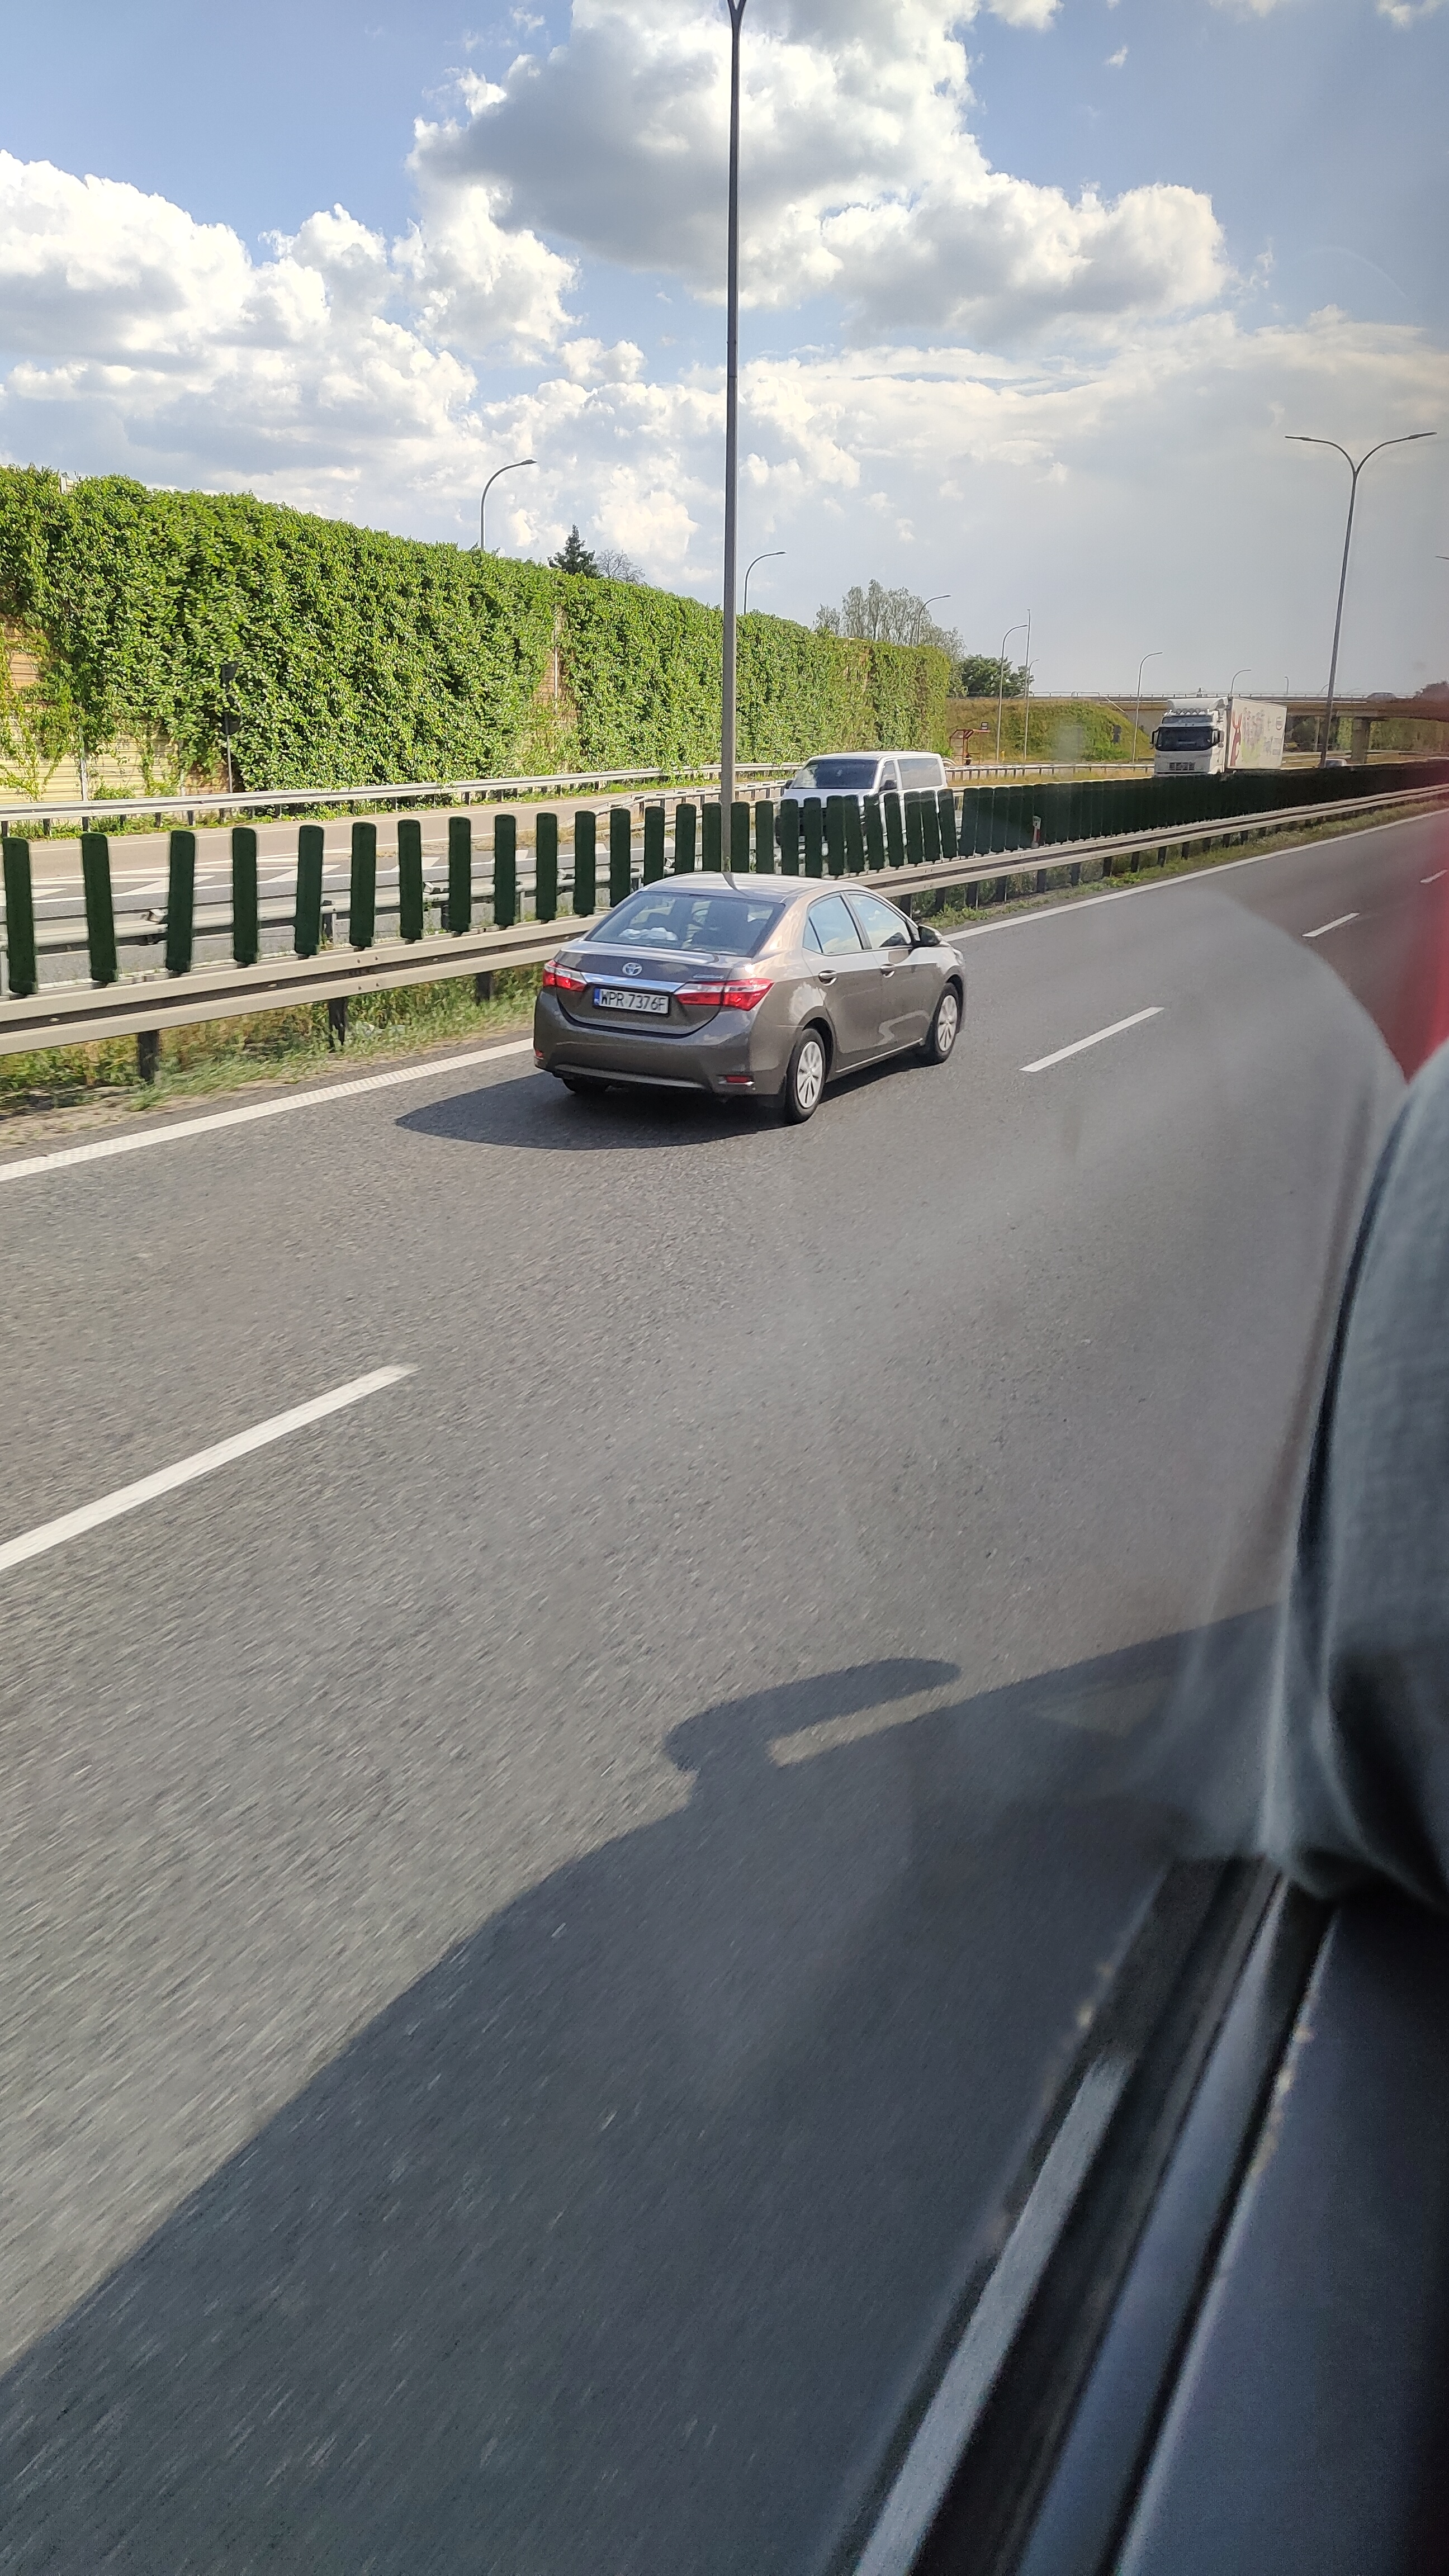number_plate: (592, 988, 671, 1017)
